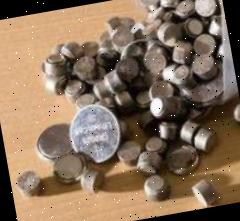electronic: (61, 95, 130, 172), (161, 140, 206, 182), (145, 94, 181, 121)
